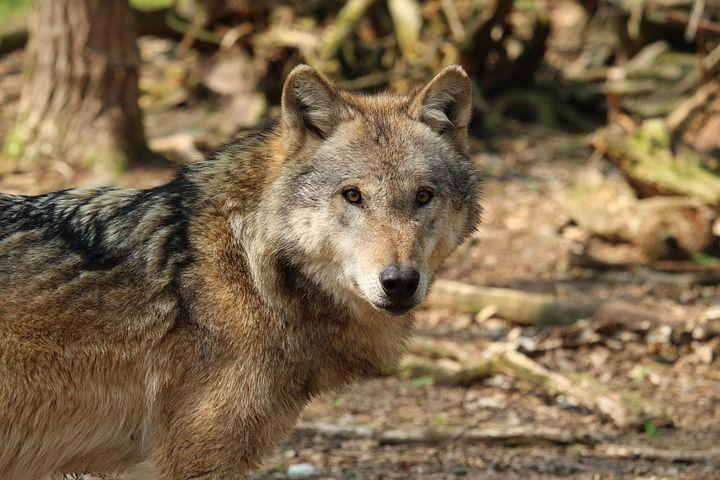fox: (0, 61, 485, 480)
